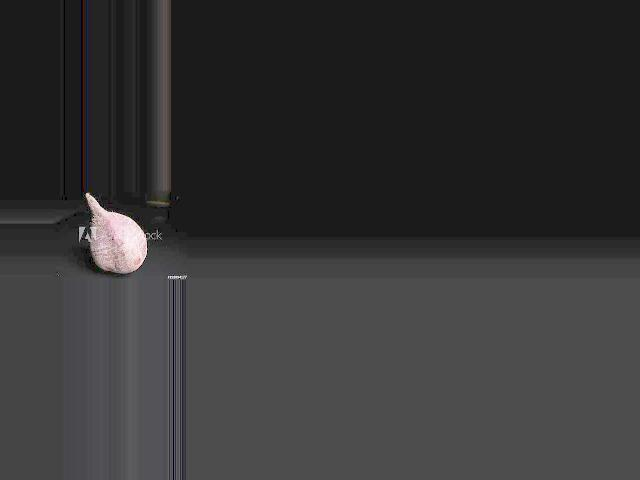beet: (86, 193, 147, 273)
